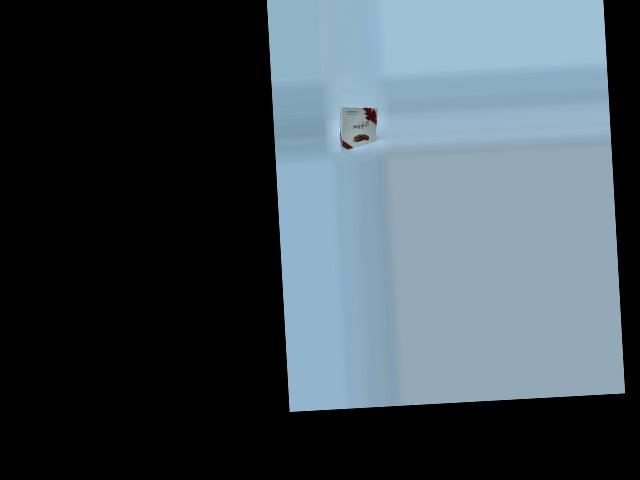chocolate: (330, 106, 380, 153)
